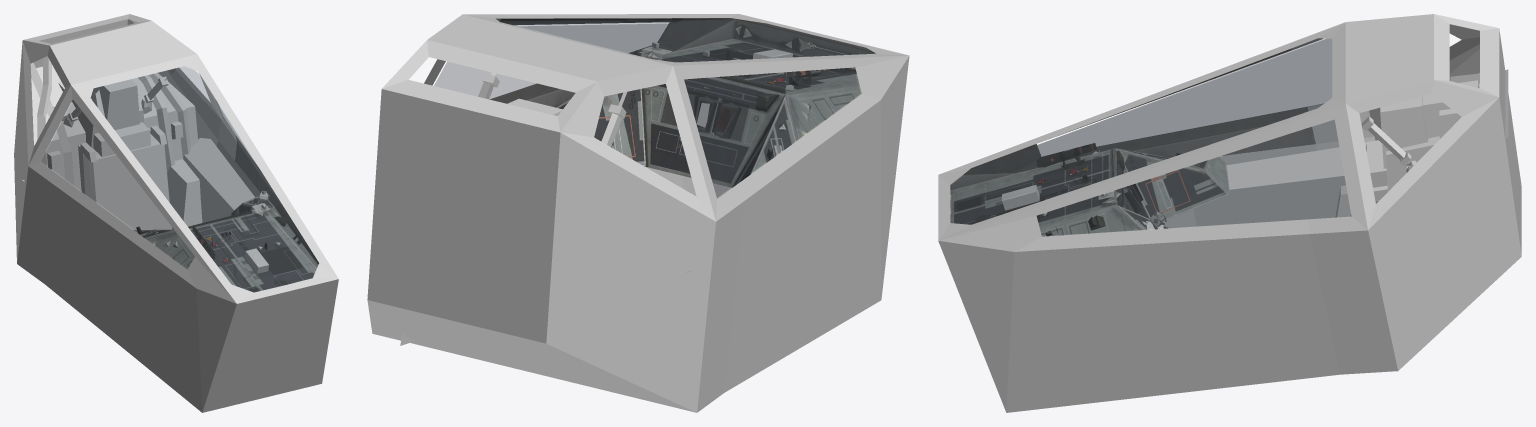
The model's file is xwingcockpit.lod1.glb.
The picture shows the model from 3 angles, left to right: view 1: azimuth 30°, elevation 25°; view 2: azimuth 150°, elevation 25°; view 3: azimuth 270°, elevation 25°; orthographic projection. The views are drawn at different scales.
Bounding box in the file's own units: 1.17 × 1.42 × 2.29.
Materials: 3 (1 with a texture image).
